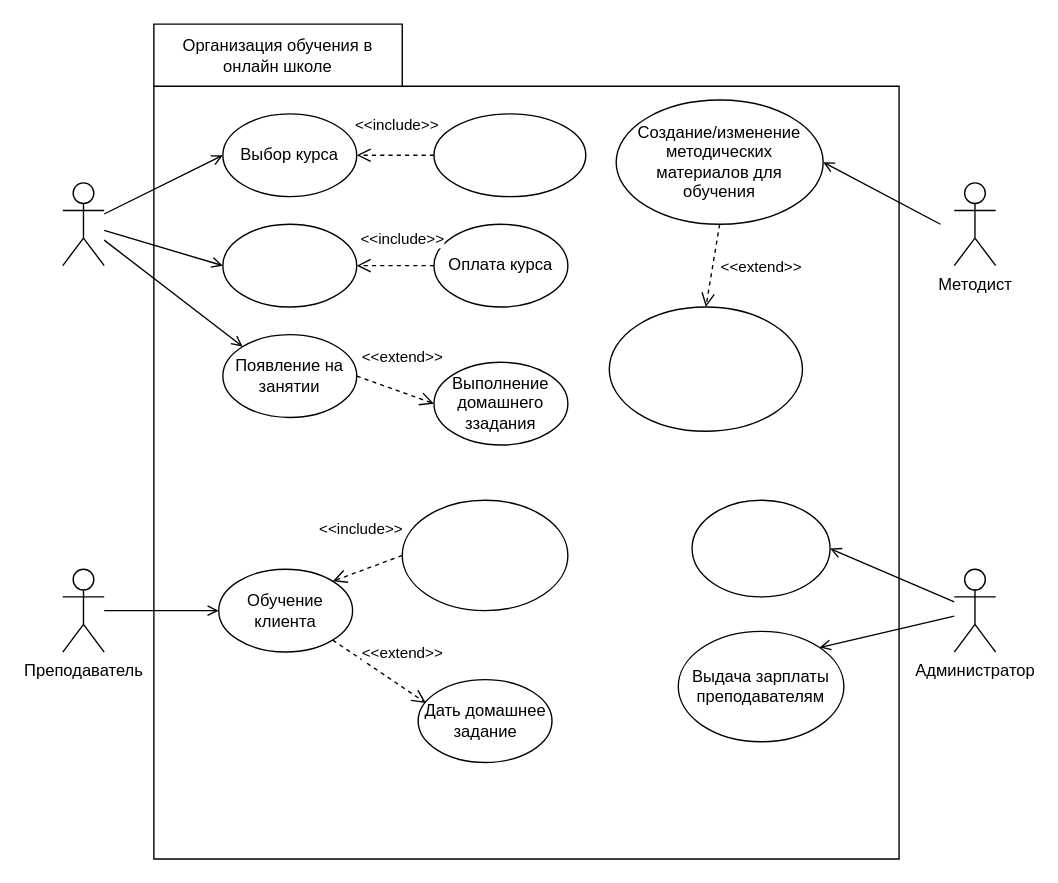
Some shapes in this 1058 by 883 pixel diagram are drawn without their labels. Here are the shapes that lost their labels. From the top down, the box of each, then its label:
(433, 112, 586, 197): Выбор преподавателя
(61, 181, 104, 266): Клиент
(221, 223, 357, 307): Подтверждение на обучение
(608, 306, 802, 431): Создание/изменение домашнего задания по курсу
(401, 499, 568, 611): Получение оплаты за проведение курса
(691, 499, 830, 597): Помощь клиенту в выборе курса
